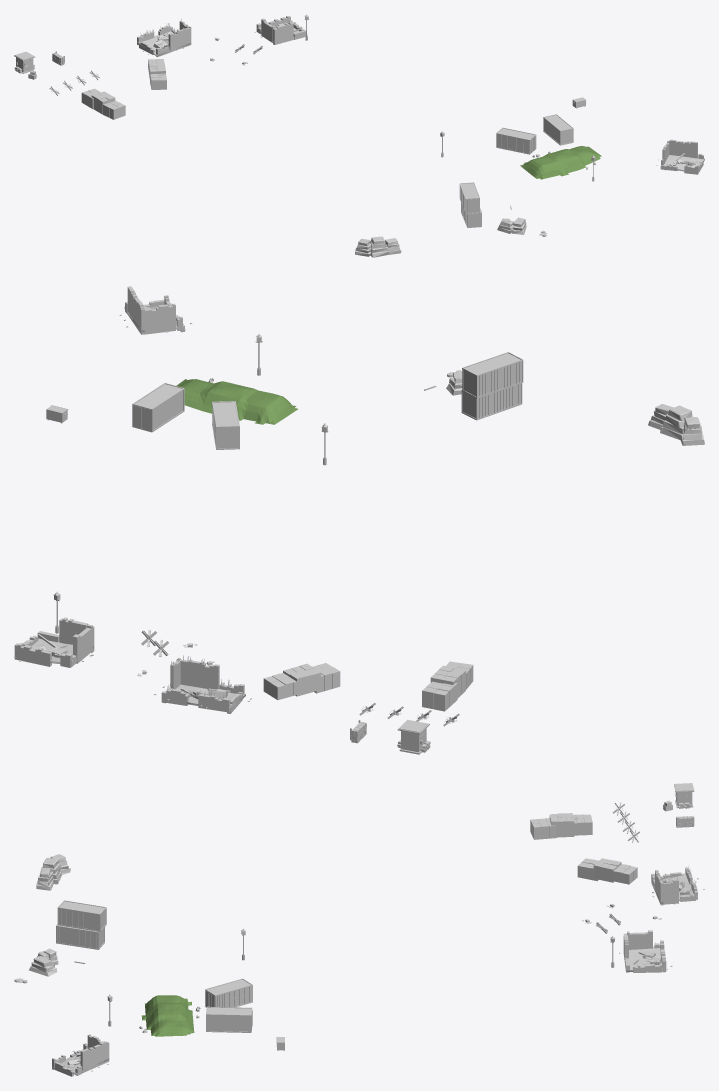
The model's file is outdoor_01.glb.
3 renders of one model, top to bottom at view 1: azimuth 30°, elevation 25°; view 2: azimuth 150°, elevation 25°; view 3: azimuth 270°, elevation 25°, orthographic. The views are drawn at different scales.
Parts seen in each view (by area): view 1: gas_station_town; view 2: gas_station_town; view 3: gas_station_town.
Boxes of the visible parts, <box> form: gas_station_town: <box>14,14,704,257</box>; gas_station_town: <box>14,286,704,754</box>; gas_station_town: <box>14,783,704,1076</box>.
Bounding box in the file's own units: 83.12 × 7.42 × 93.05.
Materials: 2 (1 with a texture image).
